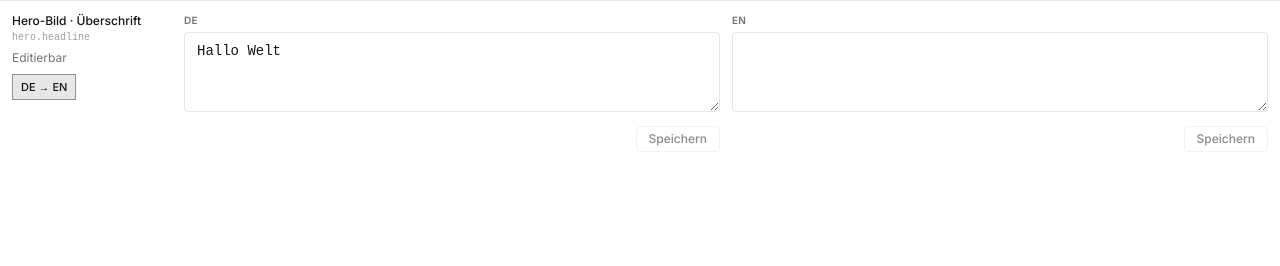
Scenario: EditableField — Zielzustand beim Übersetzungsstart › ersetzt einen zwischenzeitlich gespeicherten Zielwert nicht still
Click the button "DE → EN" at (44, 87), box [12, 74, 76, 100]
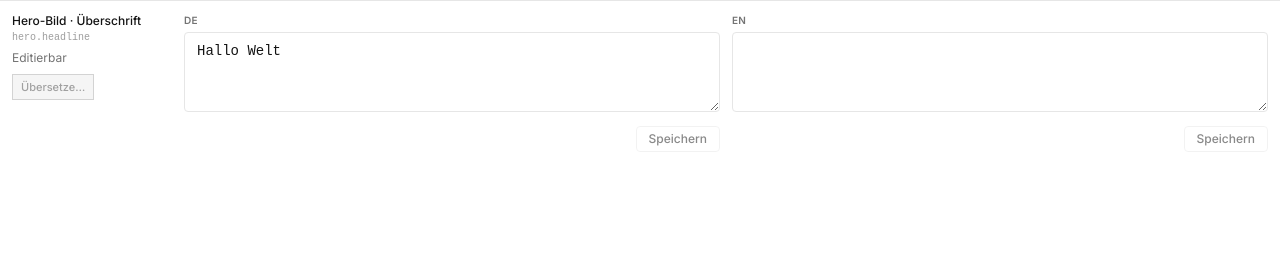
Note: EN von Hand ändern und erfolgreich speichern → kein Entwurf mehr offen.
Type "Saved manual translation" into the text box below "EN" at (1000, 72), box [732, 32, 1268, 112]
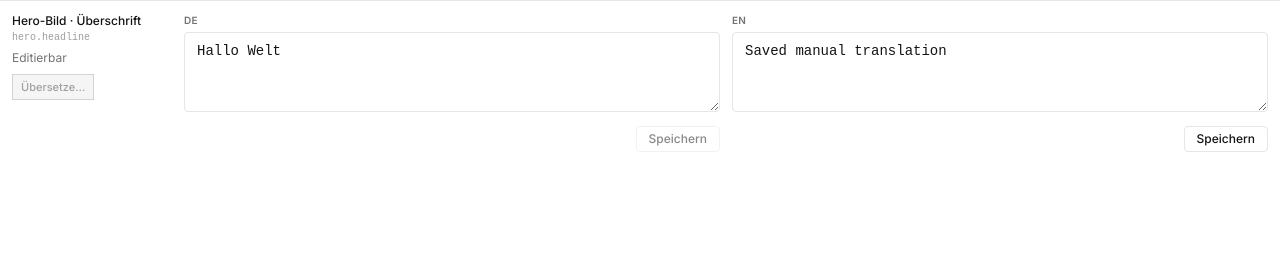
Click the 2nd button "Speichern" at (1226, 139), box [1184, 126, 1268, 152]
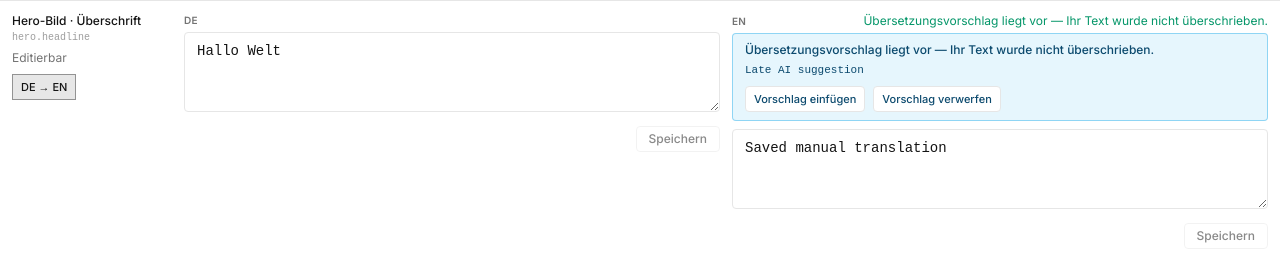
Expected: the button "Vorschlag einfügen" is shown
Expected: the button "Vorschlag verwerfen" is shown, [873, 86, 1001, 112]
Note: Explizites Einfügen bleibt möglich.
Click the button "Vorschlag einfügen" at (805, 99), box [745, 86, 865, 112]
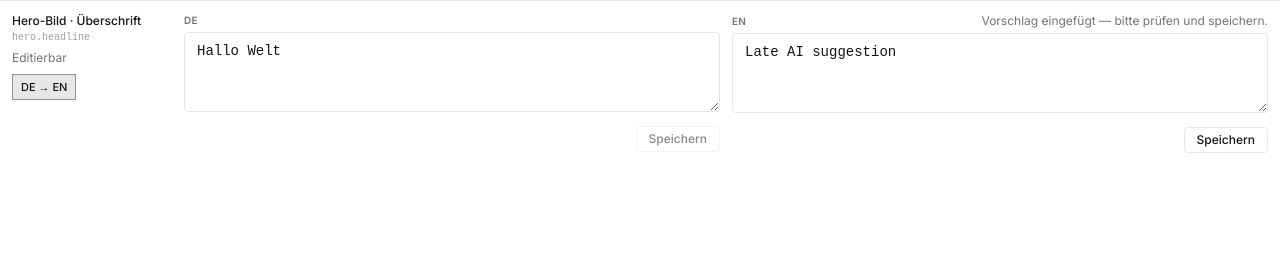
Expected: the 2nd text box holds "Late AI suggestion", [732, 33, 1268, 113]
